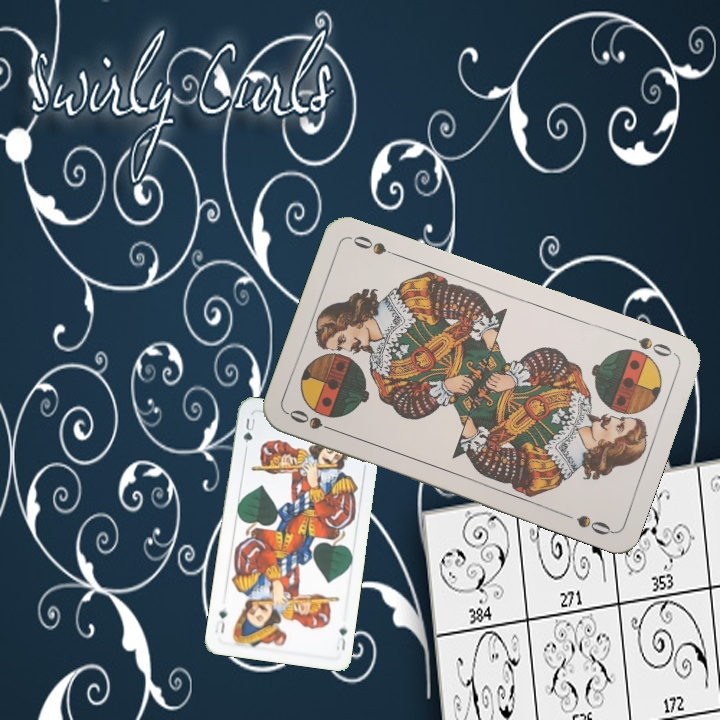GU: (239, 414, 258, 445), (332, 624, 350, 653)
SO: (285, 405, 342, 436), (621, 330, 678, 360)
